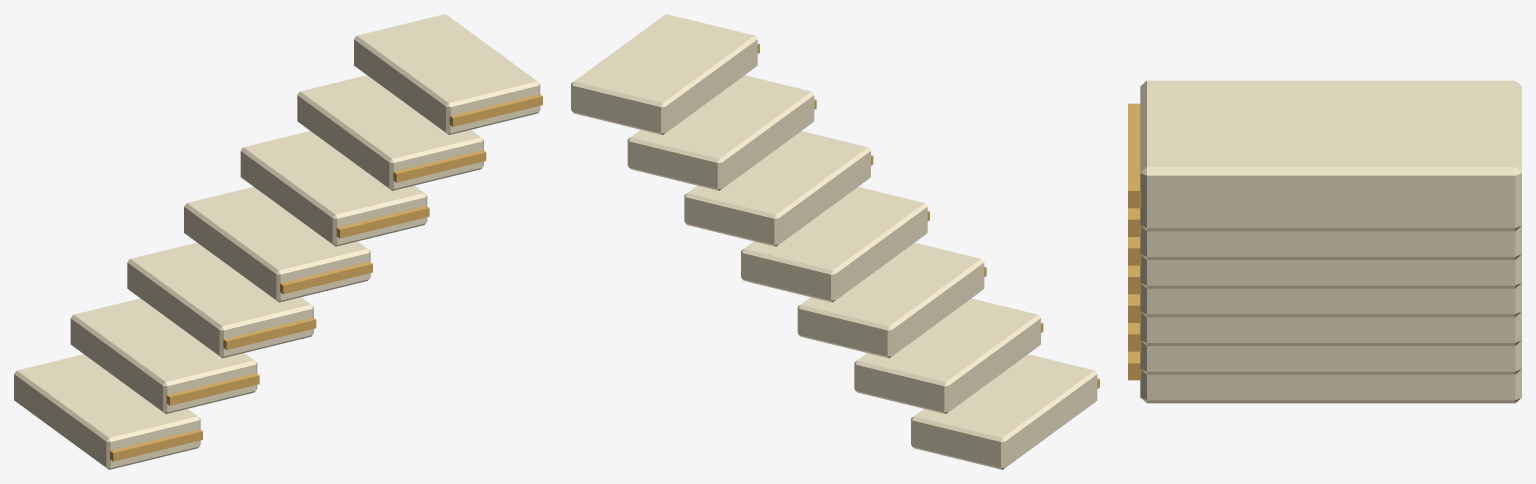
Rendered from d5_stair_fragment.glb.
The picture shows the model from 3 angles, left to right: view 1: azimuth 30°, elevation 25°; view 2: azimuth 150°, elevation 25°; view 3: azimuth 270°, elevation 25°; orthographic projection. The views are drawn at different scales.
Parts seen in each view (by area): view 1: d5_stair_fragment__d5-alabaster, d5_stair_fragment__d5-gold; view 2: d5_stair_fragment__d5-alabaster; view 3: d5_stair_fragment__d5-alabaster, d5_stair_fragment__d5-gold.
Part boxes in pixels (x1,y1,x2,y2): d5_stair_fragment__d5-alabaster: [14, 14, 540, 469]; d5_stair_fragment__d5-gold: [110, 94, 542, 461]; d5_stair_fragment__d5-alabaster: [571, 14, 1097, 469]; d5_stair_fragment__d5-alabaster: [1140, 80, 1521, 403]; d5_stair_fragment__d5-gold: [1128, 103, 1141, 380].
Bounding box in the file's own units: 28.84 × 18.03 × 11.33.
